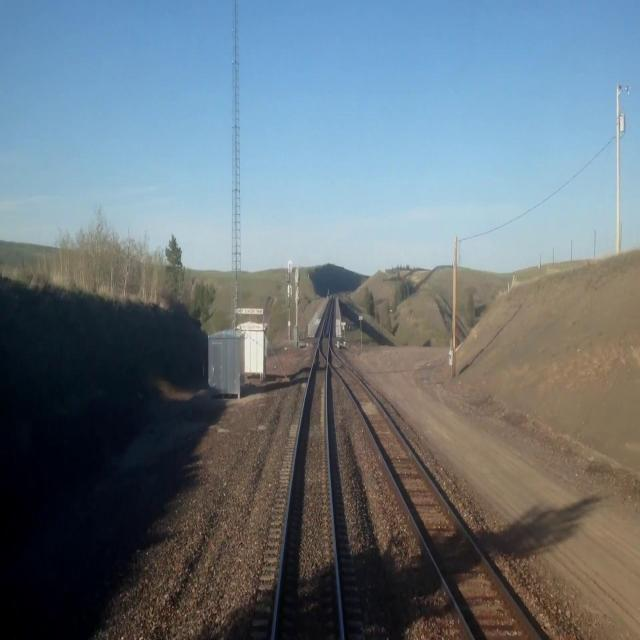rail-track: (329, 351, 537, 639), (275, 351, 340, 639)
